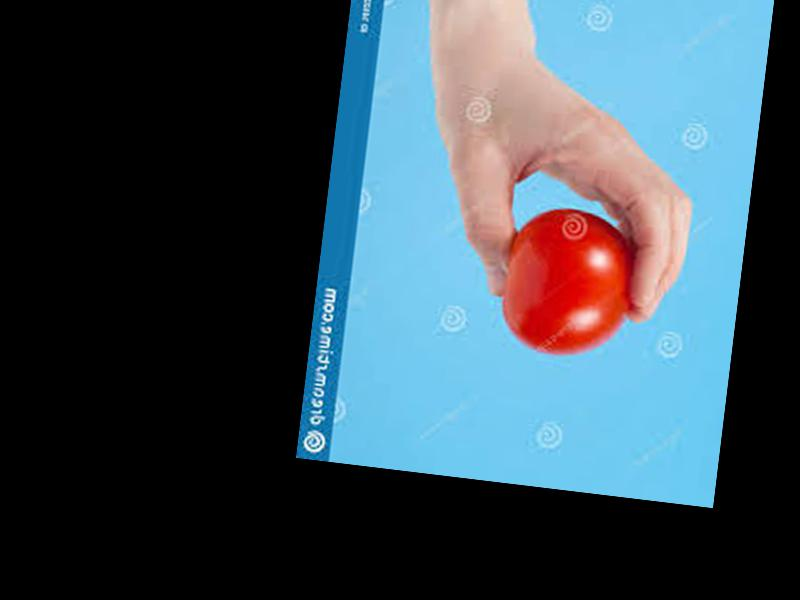Tomato: (497, 203, 643, 362)
